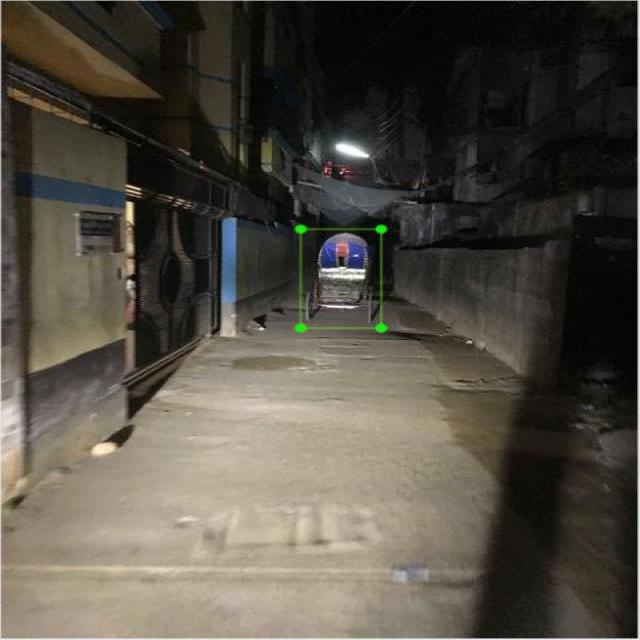rickshaw: (296, 227, 381, 327)
